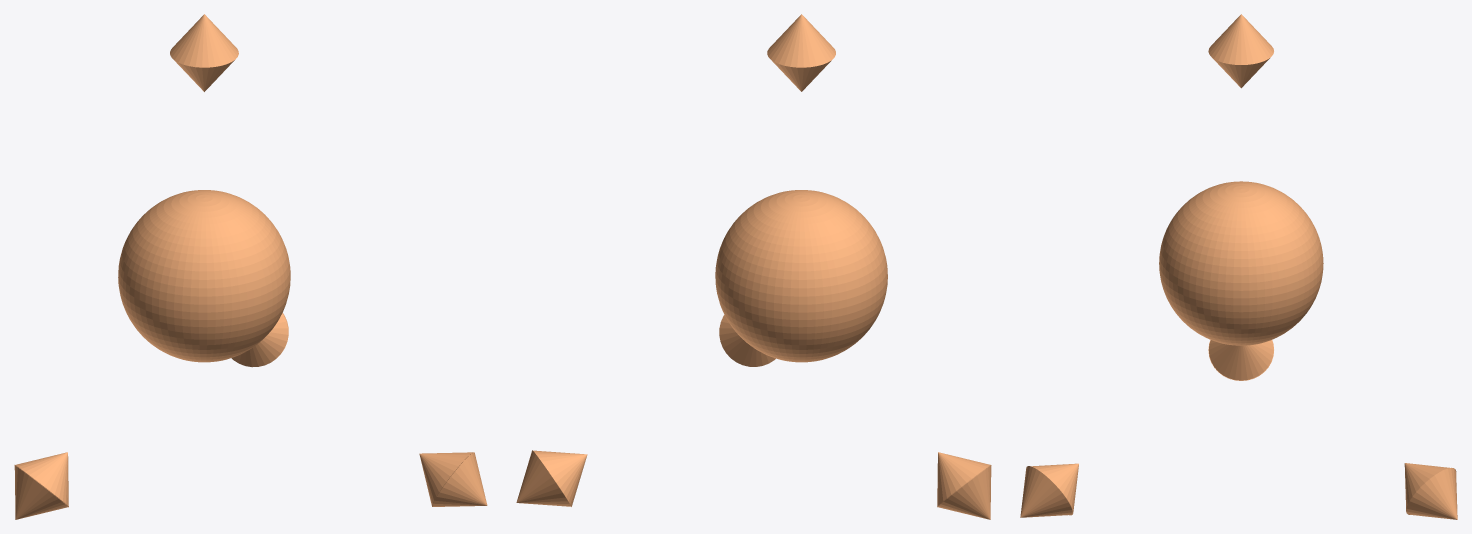
Rendered from Power_Cell.fbx.
3 renders of one model, left to right at view 1: azimuth 30°, elevation 25°; view 2: azimuth 150°, elevation 25°; view 3: azimuth 270°, elevation 25°, orthographic. The views are drawn at different scales.
Parts seen in each view (by area): view 1: Sphere, Cone.004, Cone.007, Cone.002, Cone.005, Cone.001, Cone.003, Cone; view 2: Sphere, Cone.004, Cone.006, Cone.002, Cone.005, Cone.003, Cone.001, Cone; view 3: Sphere, Cone.004, Cone.005, Cone.006, Cone.007, Cone.001, Cone.003, Cone.
Boxes of the visible parts, x1,y1,x2,y2 form: Sphere: (118,190,290,362); Cone.004: (170,14,238,67); Cone.007: (432,452,487,506); Cone.002: (14,465,68,519); Cone.005: (14,452,68,506); Cone.001: (419,452,472,506); Cone.003: (231,313,288,367); Cone: (173,59,234,91); Sphere: (715,190,887,362); Cone.004: (767,14,835,67); Cone.006: (516,450,570,506); Cone.002: (937,465,991,519); Cone.005: (937,452,991,506); Cone.003: (533,450,587,506); Cone.001: (719,315,775,366); Cone: (771,60,831,91); Sphere: (1159,181,1323,345); Cone.004: (1208,14,1273,64); Cone.005: (1208,340,1273,380); Cone.006: (1406,467,1457,519); Cone.007: (1020,466,1072,517); Cone.001: (1031,463,1078,515); Cone.003: (1404,463,1456,514); Cone: (1212,57,1269,88).
Size of the model in its own units: 243 by 294 by 266.
